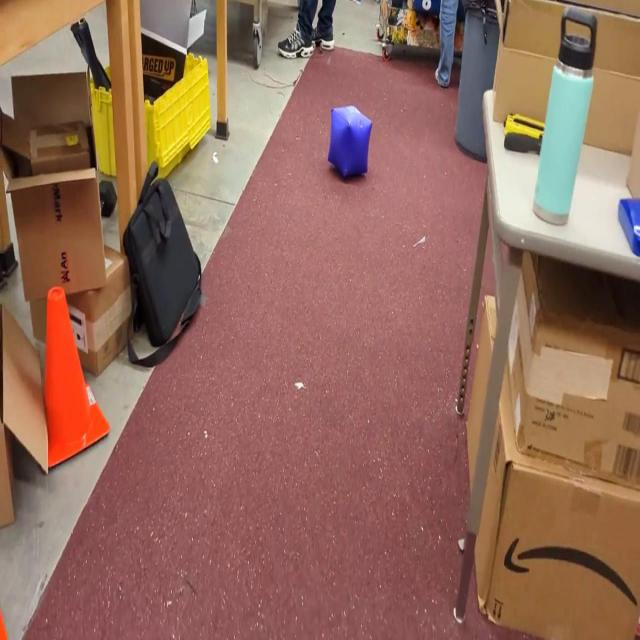frc_cube: (328, 102, 372, 182)
